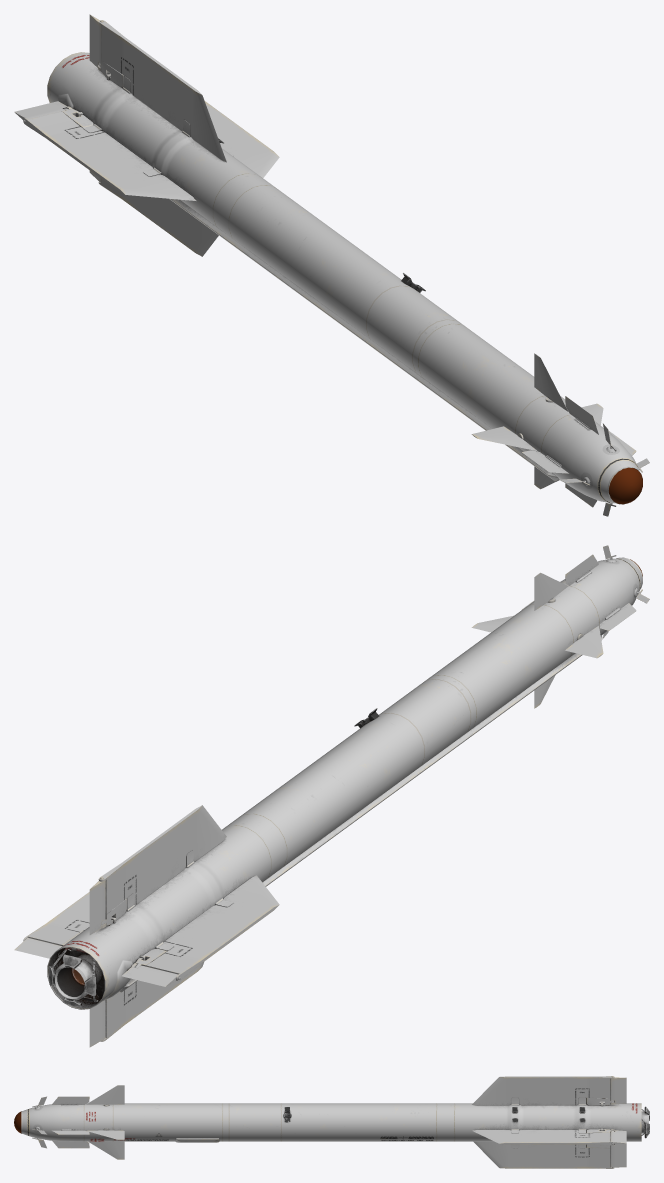
3 renders of one model, top to bottom at view 1: azimuth 30°, elevation 25°; view 2: azimuth 150°, elevation 25°; view 3: azimuth 270°, elevation 25°, orthographic. The views are drawn at different scales.
Parts seen in each view (by area): view 1: pCube60, polySurface2; view 2: pCube60; view 3: pCube60.
Boxes of the visible parts, bbox=[...] form: pCube60: bbox=[14, 14, 649, 516]; polySurface2: bbox=[609, 467, 642, 504]; pCube60: bbox=[14, 545, 649, 1047]; pCube60: bbox=[21, 1076, 649, 1168].
Bounding box in the file's own units: 0.2974 × 0.2974 × 1.86.
Materials: 2 (1 with a texture image).
